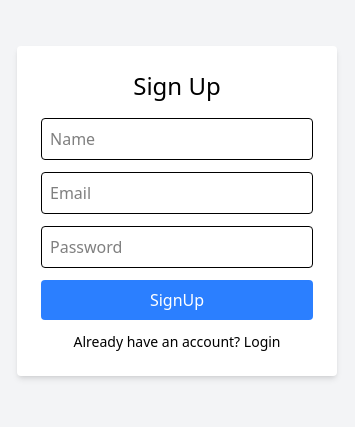
Signup component › shows validation error for short password after blur
Type "123" into the password field with placeholder "Password".
click(177, 247); type("123")  # box x1=41 y1=226 x2=313 y2=268
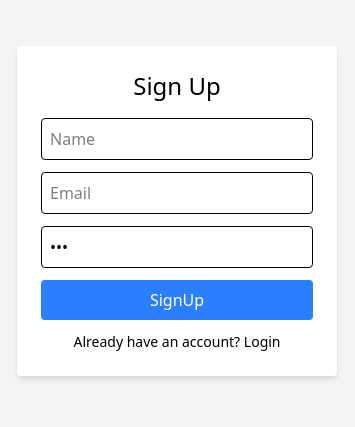
Leave the password field with placeholder "Password", box x1=41 y1=226 x2=313 y2=268
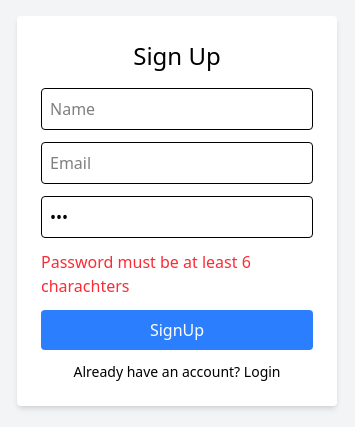
Result: the text "Password must be at least 6 charachters" is shown at x1=41 y1=251 x2=251 y2=297
